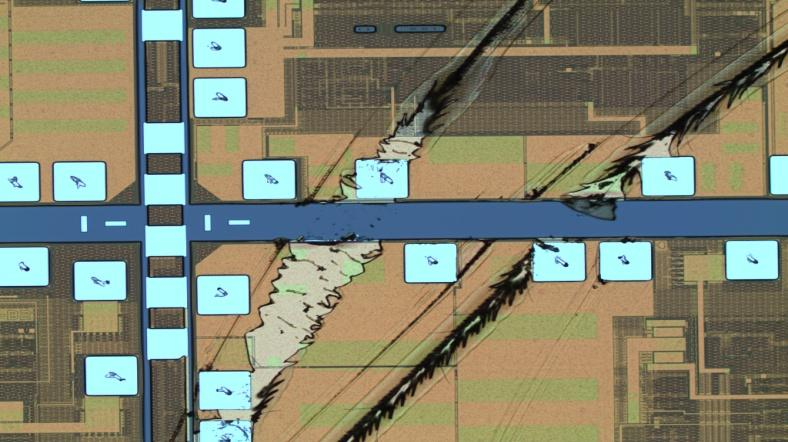SCRATCH: (167, 1, 788, 442)
